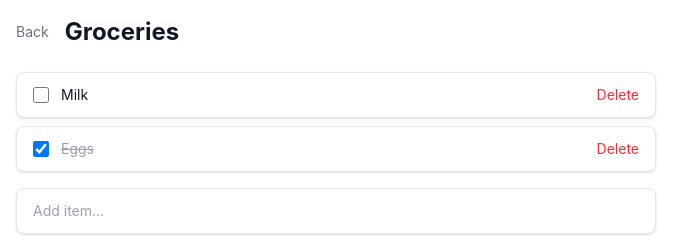
Test case: ListDetailPage › reverts title when updateList fails
Step 1. Focus the heading "Groceries" → (122, 32), box [65,16,179,48]
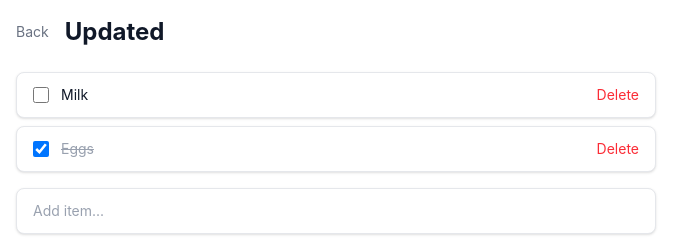
Step 2. Leave the heading "Updated", box [65,16,164,48]
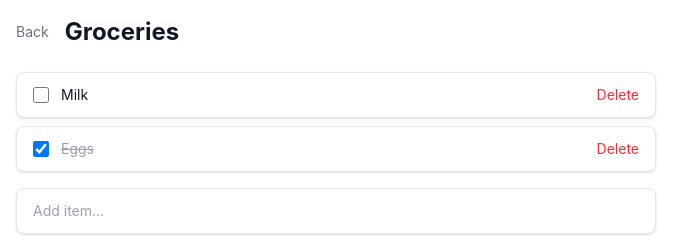
Expected: the heading reads "Groceries", [65,17,179,46]
